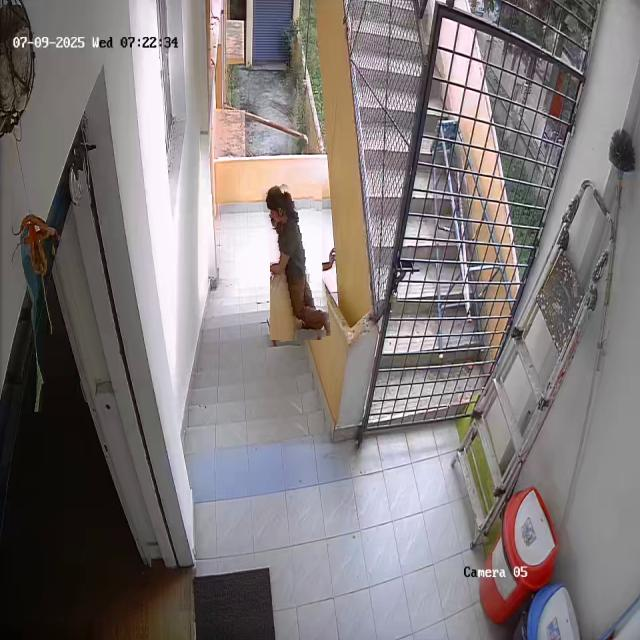person: (265, 183, 327, 341)
